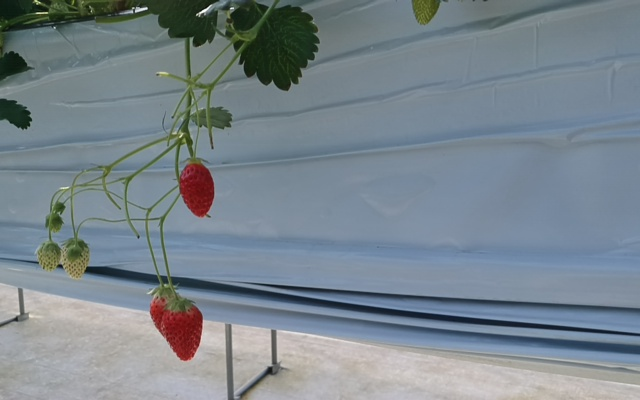GreenStrawberry: (60, 237, 91, 281), (35, 241, 62, 274)
MatureStrawberry: (160, 298, 204, 363), (178, 161, 216, 219), (148, 287, 181, 338)
